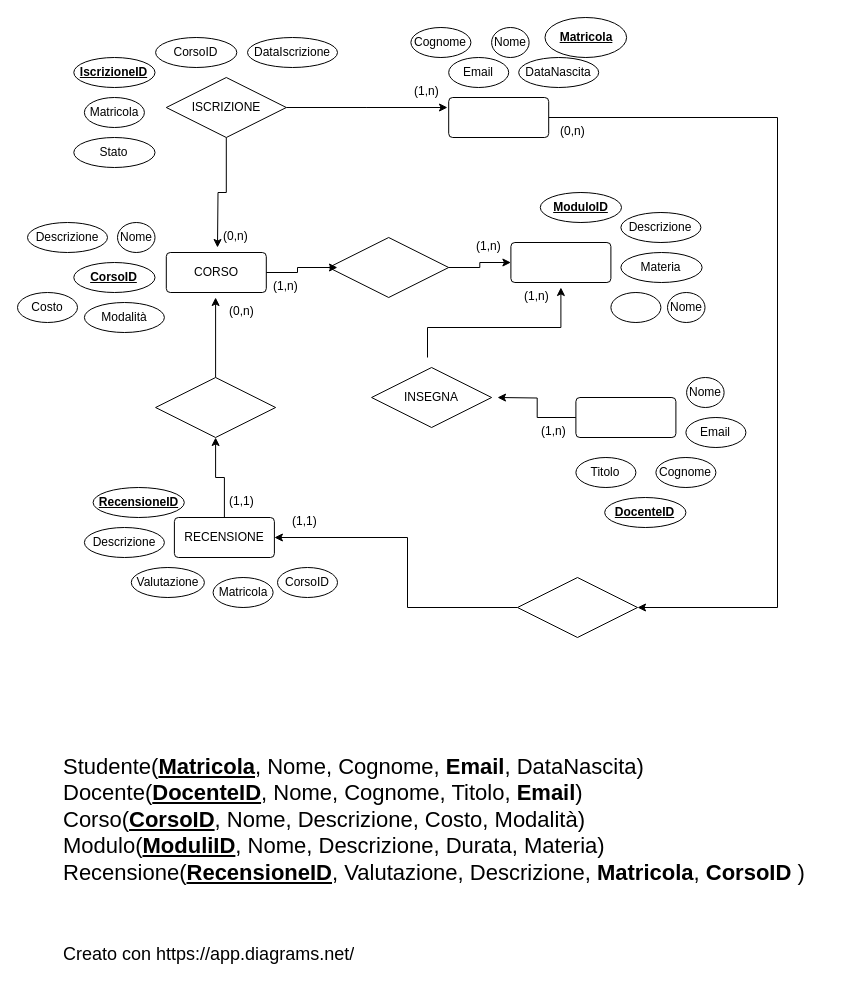
This 845x1008 diagram has some shape labels left out. The shapes that lost their labels are listed below. From the top down, each one's centre as x and y in pixels, then its label:
At point 498,117: "STUDENTE".
At point 388,267: "COMPOSTO".
At point 560,262: "MODULO".
At point 635,307: "Durata".
At point 215,407: "APPARTIENE".
At point 625,417: "DOCENTE".
At point 577,607: "RILASCIA".
